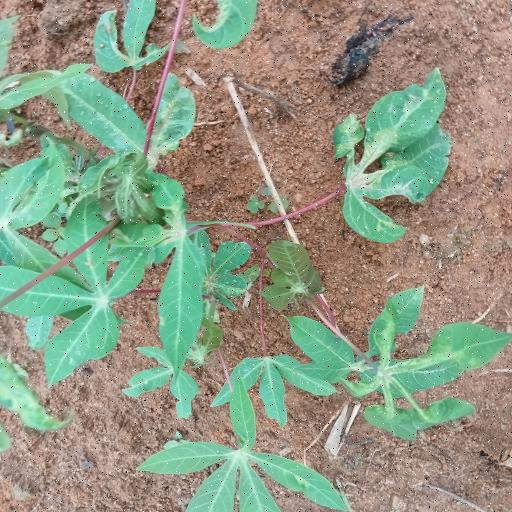Cassava_Mosaic: (342, 297, 502, 440), (6, 220, 140, 374), (334, 81, 454, 240), (143, 426, 341, 512), (74, 150, 180, 226)
